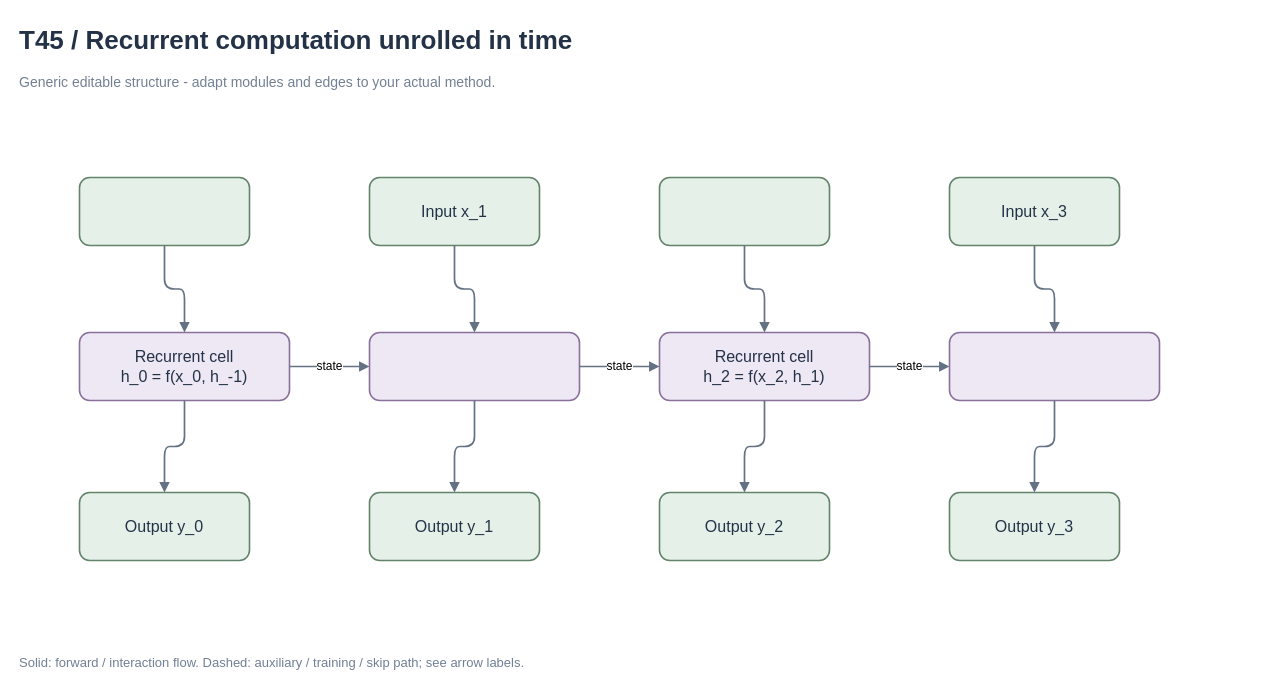
Some shapes in this 1264 by 695 pixel diagram are drawn without their labels. Here are the shapes that lost their labels. From the top down, the centre of each, then its label:
At (164,211): "Input x_0".
At (744,211): "Input x_2".
At (474,366): "Recurrent cell h_1 = f(x_1, h_0)".
At (1054,366): "Recurrent cell h_3 = f(x_3, h_2)".
